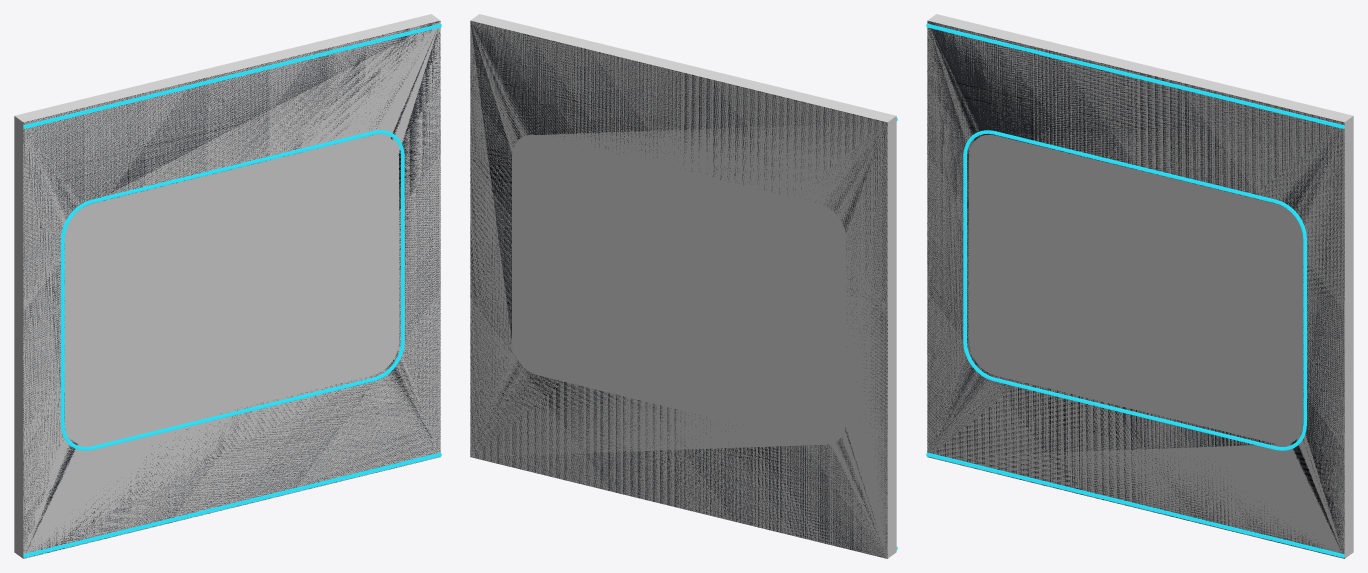
File: Arch_Wall_Window_4m.gltf
3 renders of one model, left to right at view 1: azimuth 30°, elevation 25°; view 2: azimuth 150°, elevation 25°; view 3: azimuth 330°, elevation 25°, orthographic.
Parts seen in each view (by area): view 1: Arch_Wall_Window_4m_COL, Arch_Wall_Window_4m; view 2: Arch_Wall_Window_4m_COL, Arch_Wall_Window_4m; view 3: Arch_Wall_Window_4m_COL, Arch_Wall_Window_4m.
Part boxes in pixels (left/top/right/bottom): Arch_Wall_Window_4m_COL: left=14, top=14, right=440, bottom=558; Arch_Wall_Window_4m: left=23, top=21, right=441, bottom=558; Arch_Wall_Window_4m_COL: left=470, top=14, right=896, bottom=558; Arch_Wall_Window_4m: left=470, top=21, right=897, bottom=558; Arch_Wall_Window_4m_COL: left=927, top=14, right=1353, bottom=558; Arch_Wall_Window_4m: left=926, top=21, right=1344, bottom=558.
Size of the model in its own units: 4 by 4 by 0.181.
4 materials, 1 textured.
